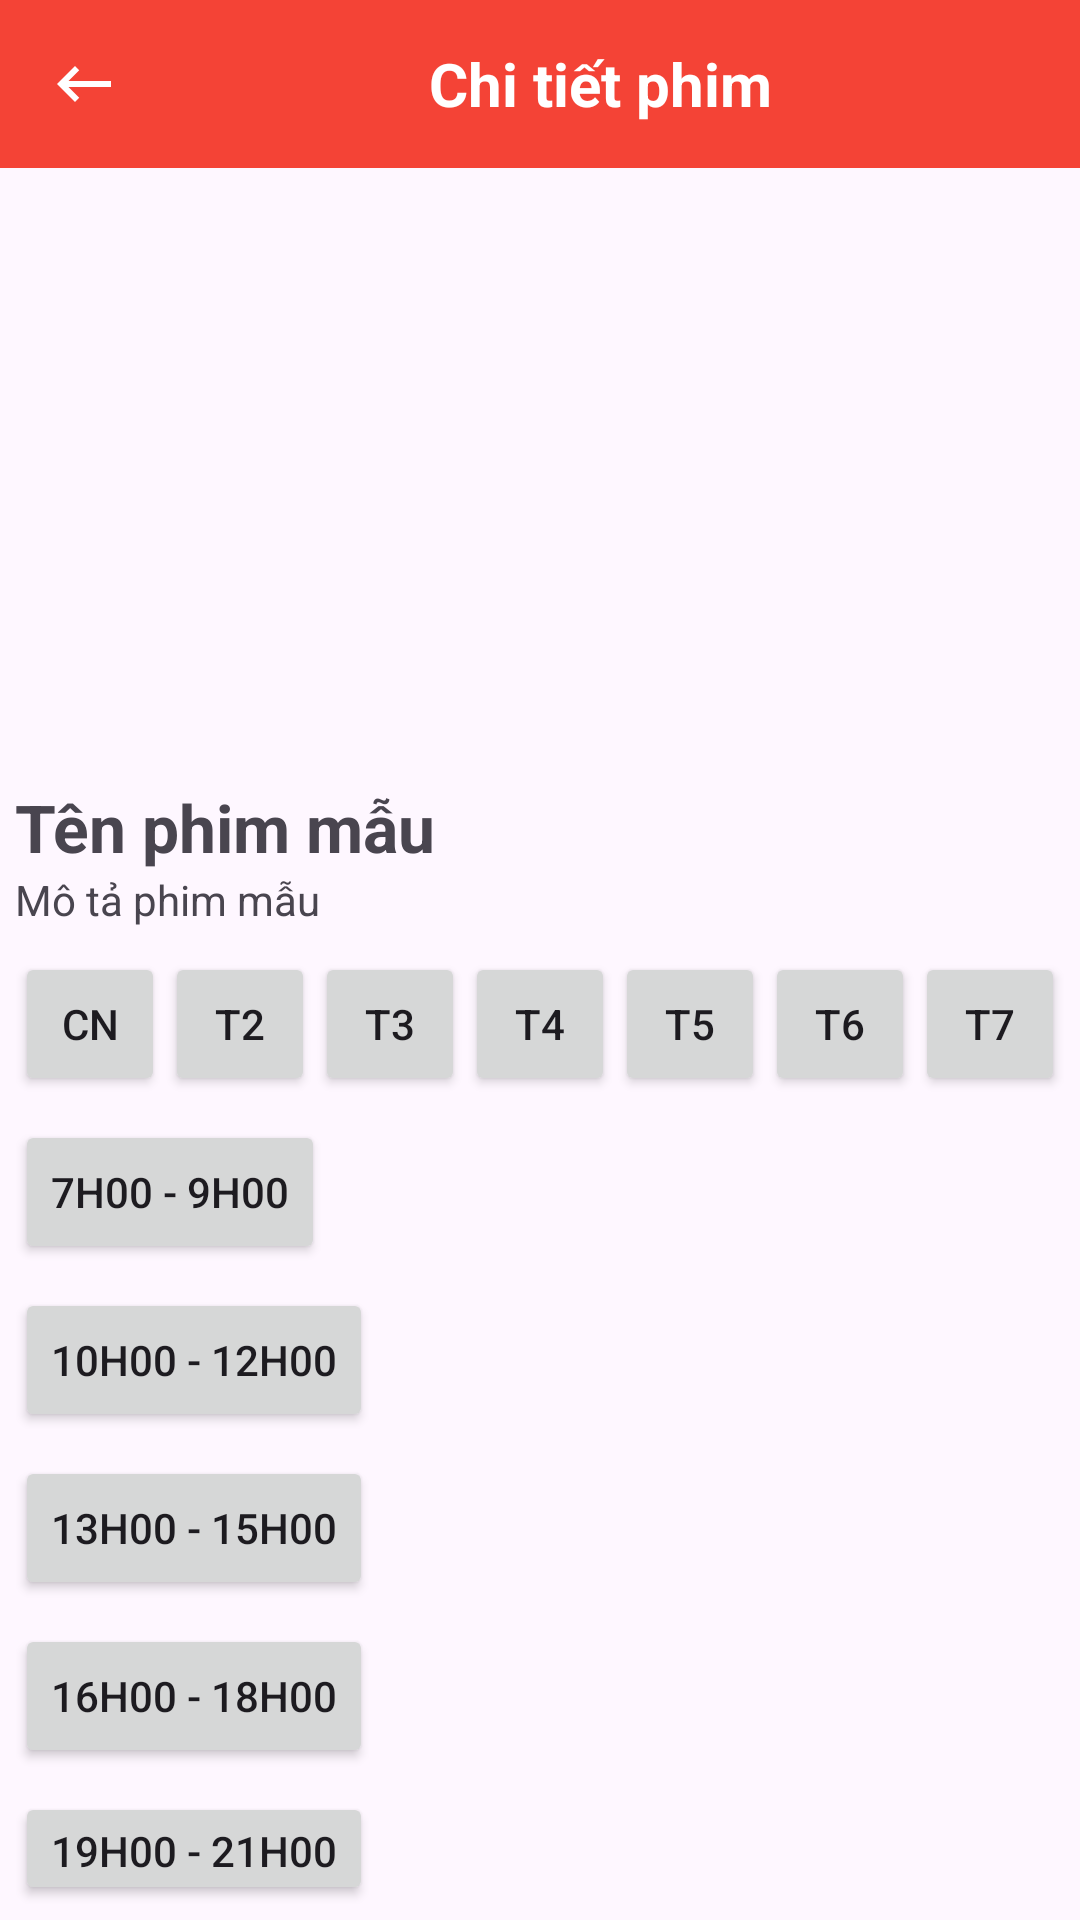

Where to tap for icons on this 1080*1920 app screen, as point (x, y):
Quay lại: point (84, 84)
